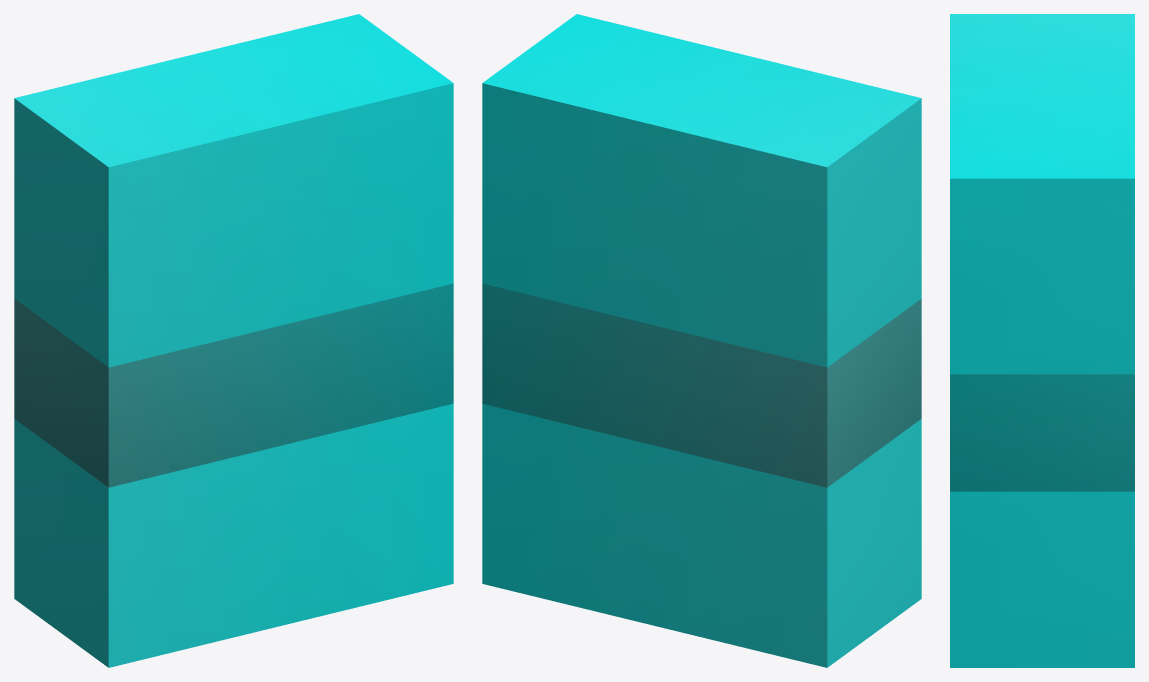
The model's file is Ürün6.fbx.
The picture shows the model from 3 angles, left to right: view 1: azimuth 30°, elevation 25°; view 2: azimuth 150°, elevation 25°; view 3: azimuth 270°, elevation 25°; orthographic projection. The views are drawn at different scales.
Visible parts, largest first — view 1: pCube72; view 2: pCube72; view 3: pCube72.
Boxes of the visible parts, <box> form: pCube72: <box>14,14,453,667</box>; pCube72: <box>482,14,921,667</box>; pCube72: <box>950,14,1134,667</box>.
Bounding box in the file's own units: 23.51 × 32.6 × 11.16.
